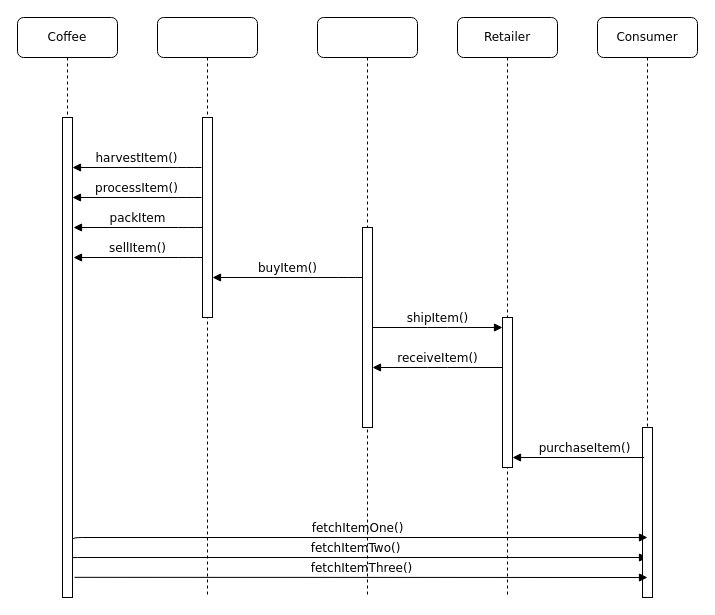
Image size: 715x615. Some labels were removed from this diagram. Here are the shapes that lost their labels. From the top down, the box of each, then its label:
(156, 16, 258, 598): Farmer
(316, 16, 418, 598): Distributor
